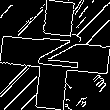N_W: (28, 32, 82, 78)
